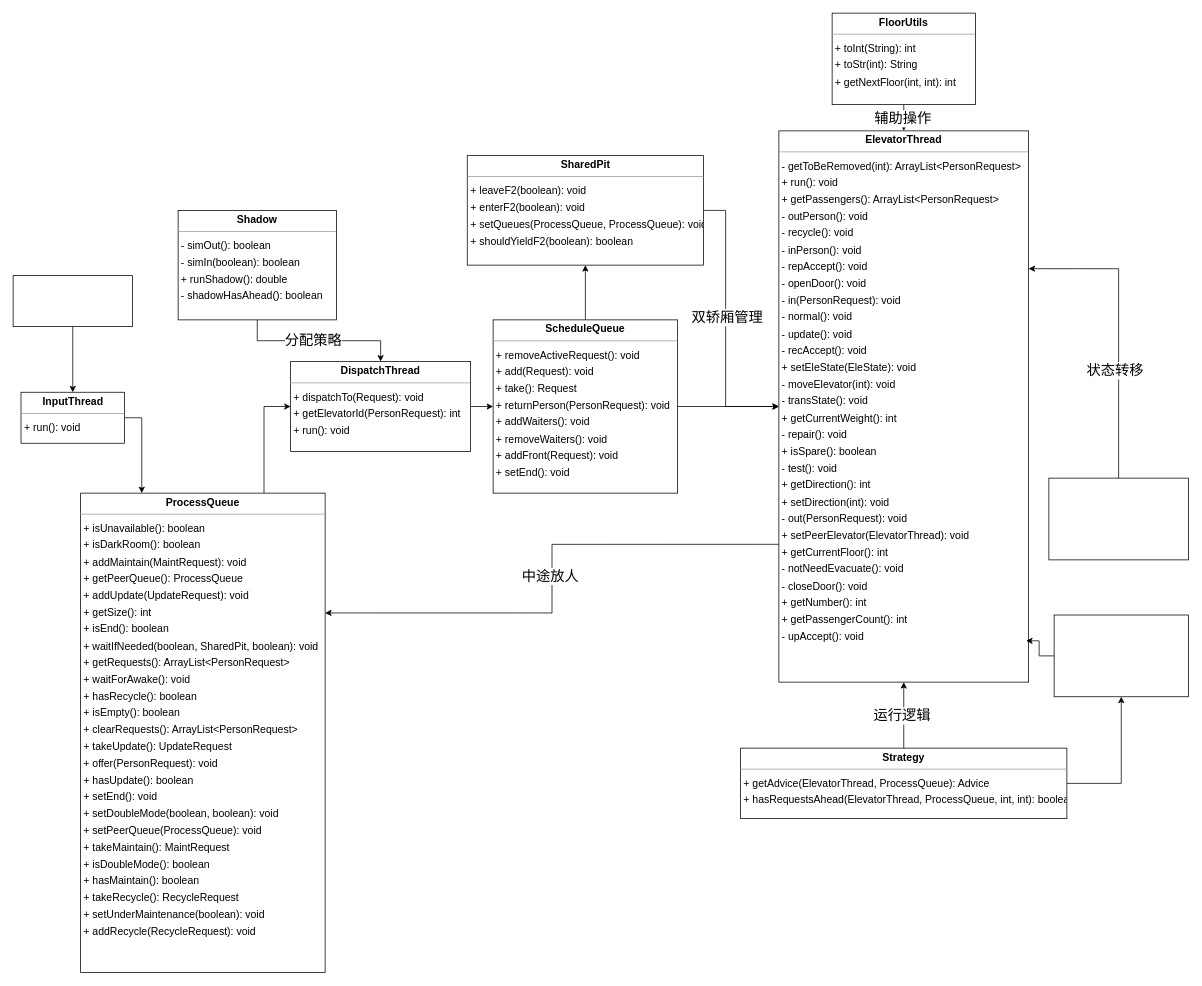
Image size: 1202x986. Some labels were removed from this diagram. Here are the shapes that lost their labels. From the top down, the centre of each, then its label:
the point at 72,301: MainClass + main(String[]): void
the point at 1118,518: <<enumeration>> EleState + values(): EleState[] + valueOf(String): EleState
the point at 1120,655: <<enumeration>> Advice + valueOf(String): Advice + values(): Advice[]
